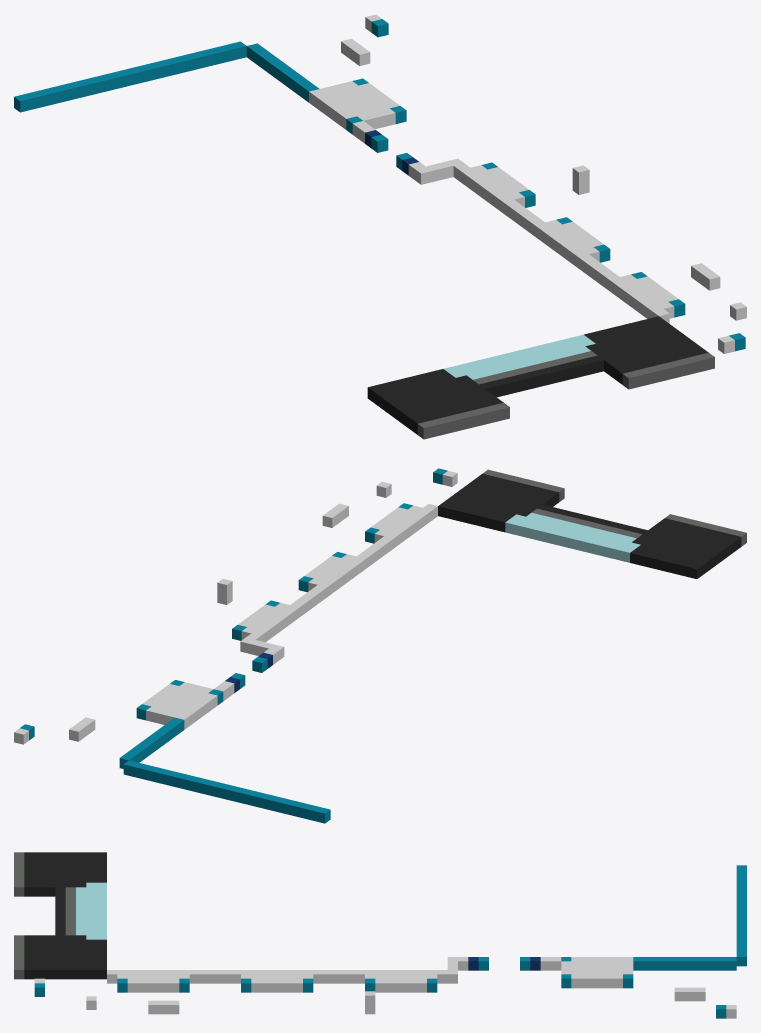
Rendered from spaceship outline mk2.obj.
The picture shows the model from 3 angles, top to bottom: view 1: azimuth 30°, elevation 25°; view 2: azimuth 150°, elevation 25°; view 3: azimuth 270°, elevation 25°; orthographic projection. The views are drawn at different scales.
Bounding box in the file's own units: 36 × 2 × 71.
